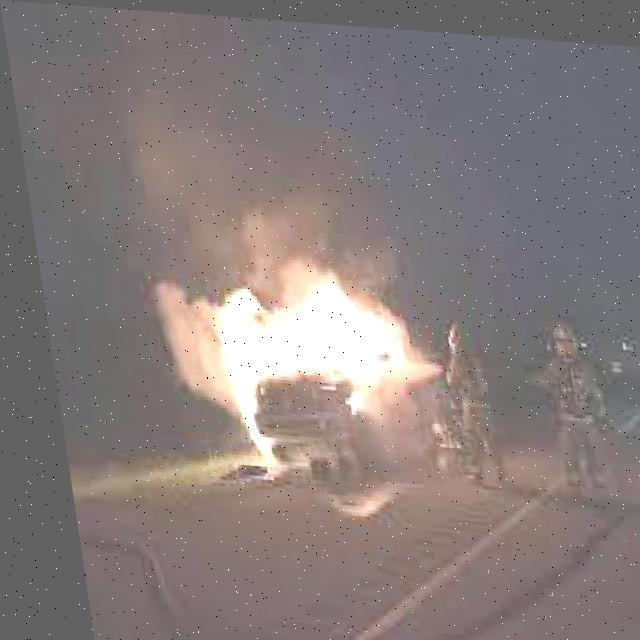Fire: (142, 251, 437, 461)
